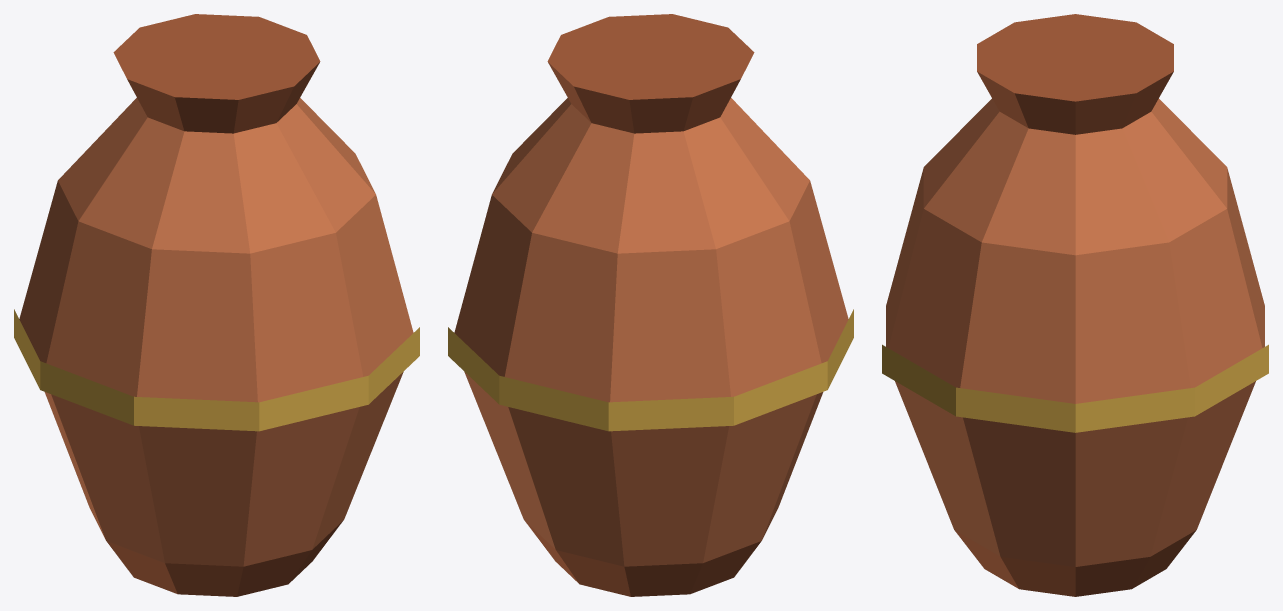
Rendered from b-urn.glb.
3 views of the same model, side by side, from view 1: azimuth 30°, elevation 25°; view 2: azimuth 150°, elevation 25°; view 3: azimuth 270°, elevation 25° (orthographic).
Visible parts, largest first — view 1: b-urn; view 2: b-urn; view 3: b-urn.
Part boxes in pixels (left/top/right/bottom): b-urn: left=14, top=14, right=419, bottom=596; b-urn: left=448, top=14, right=853, bottom=596; b-urn: left=882, top=14, right=1268, bottom=596.
Size of the model in its own units: 0.51 by 0.69 by 0.485.
